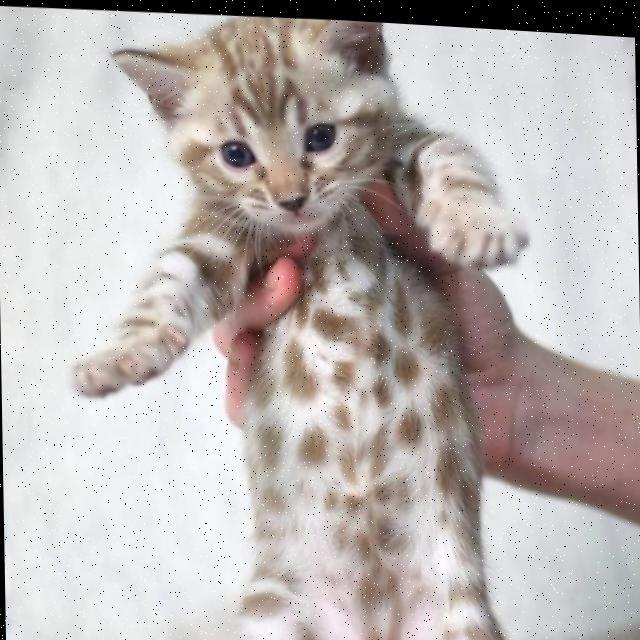Cats: (118, 5, 551, 640)
